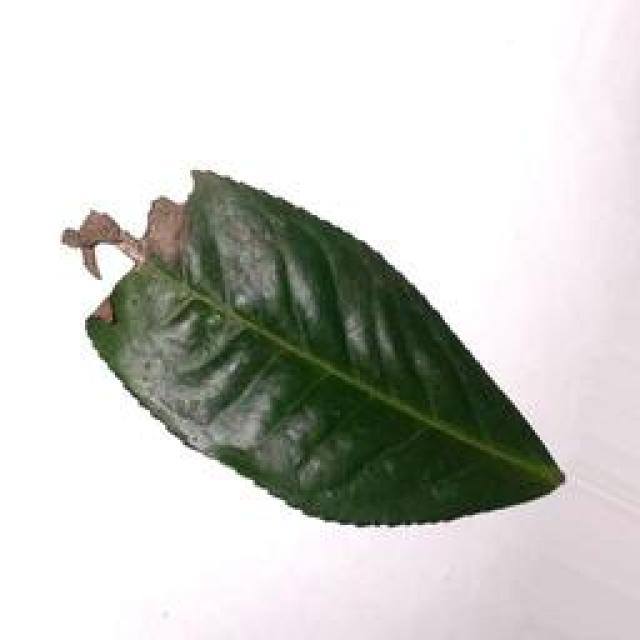Brown Blight: (64, 176, 566, 533)
